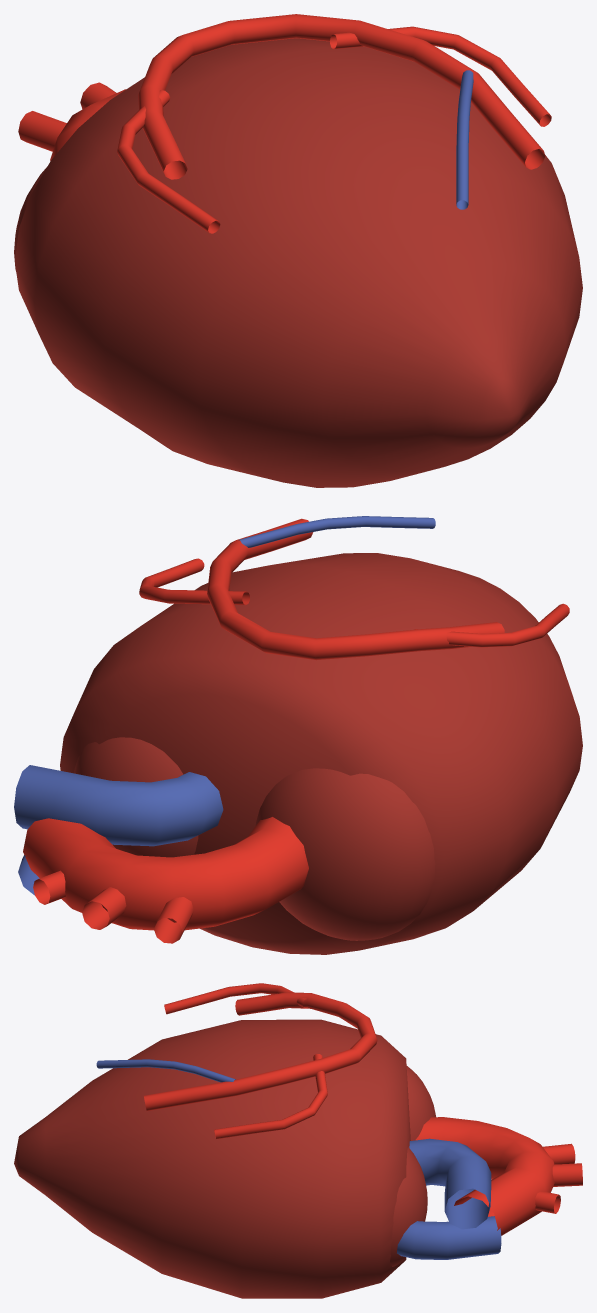
The model's file is lab-heart-ultra.glb.
3 renders of one model, top to bottom at view 1: azimuth 30°, elevation 25°; view 2: azimuth 150°, elevation 25°; view 3: azimuth 270°, elevation 25°, orthographic. The views are drawn at different scales.
Parts seen in each view (by area): view 1: part-myocardium, part-coronary-main, part-coronary-right, part-coronary-left, part-coronary-blue, part-aorta-branch-1, part-aorta; view 2: part-myocardium, part-la, part-aorta, part-pulmonary-trunk, part-coronary-main, part-ra, part-coronary-blue, part-coronary-right, part-coronary-left, part-aorta-branch-2, part-aorta-branch-1, part-aorta-branch-3; view 3: part-myocardium, part-aorta, part-coronary-main, part-pulmonary-trunk, part-vena-cava, part-ra, part-coronary-right, part-coronary-left, part-la, part-coronary-blue, part-aorta-branch-2, part-aorta-branch-1 (+1 smaller).
Part boxes in pixels (x1,y1,x2,y2): part-myocardium: [15, 38, 582, 487]; part-coronary-main: [138, 14, 545, 179]; part-coronary-right: [330, 26, 551, 126]; part-coronary-left: [117, 90, 220, 233]; part-coronary-blue: [456, 70, 473, 209]; part-aorta-branch-1: [18, 111, 66, 151]; part-aorta: [50, 89, 125, 160]; part-myocardium: [60, 553, 582, 954]; part-la: [255, 768, 435, 940]; part-aorta: [23, 817, 308, 930]; part-pulmonary-trunk: [14, 765, 223, 846]; part-coronary-main: [207, 518, 504, 660]; part-ra: [74, 737, 198, 857]; part-coronary-blue: [238, 516, 435, 547]; part-coronary-right: [139, 558, 249, 605]; part-coronary-left: [415, 603, 569, 647]; part-aorta-branch-2: [82, 887, 126, 929]; part-aorta-branch-1: [154, 897, 193, 943]; part-aorta-branch-3: [33, 870, 65, 904]; part-myocardium: [14, 1019, 410, 1298]; part-aorta: [415, 1117, 554, 1235]; part-coronary-main: [144, 992, 377, 1111]; part-pulmonary-trunk: [409, 1138, 491, 1229]; part-vena-cava: [397, 1216, 501, 1259]; part-ra: [390, 1147, 427, 1266]; part-coronary-right: [214, 1054, 327, 1138]; part-coronary-left: [164, 983, 307, 1014]; part-la: [406, 1066, 435, 1140]; part-coronary-blue: [96, 1059, 235, 1082]; part-aorta-branch-2: [552, 1163, 582, 1186]; part-aorta-branch-1: [543, 1143, 575, 1164].
Size of the model in its own units: 10.9 by 8.08 by 17.12.
